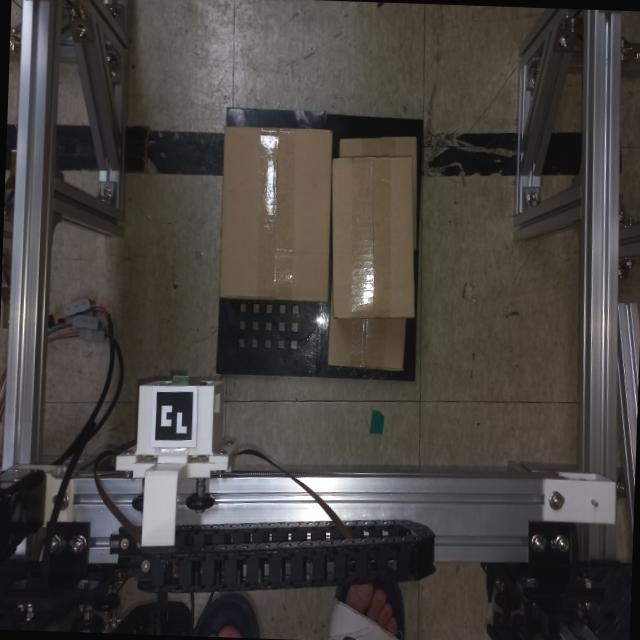box: (213, 120, 335, 307), (324, 152, 426, 326)
